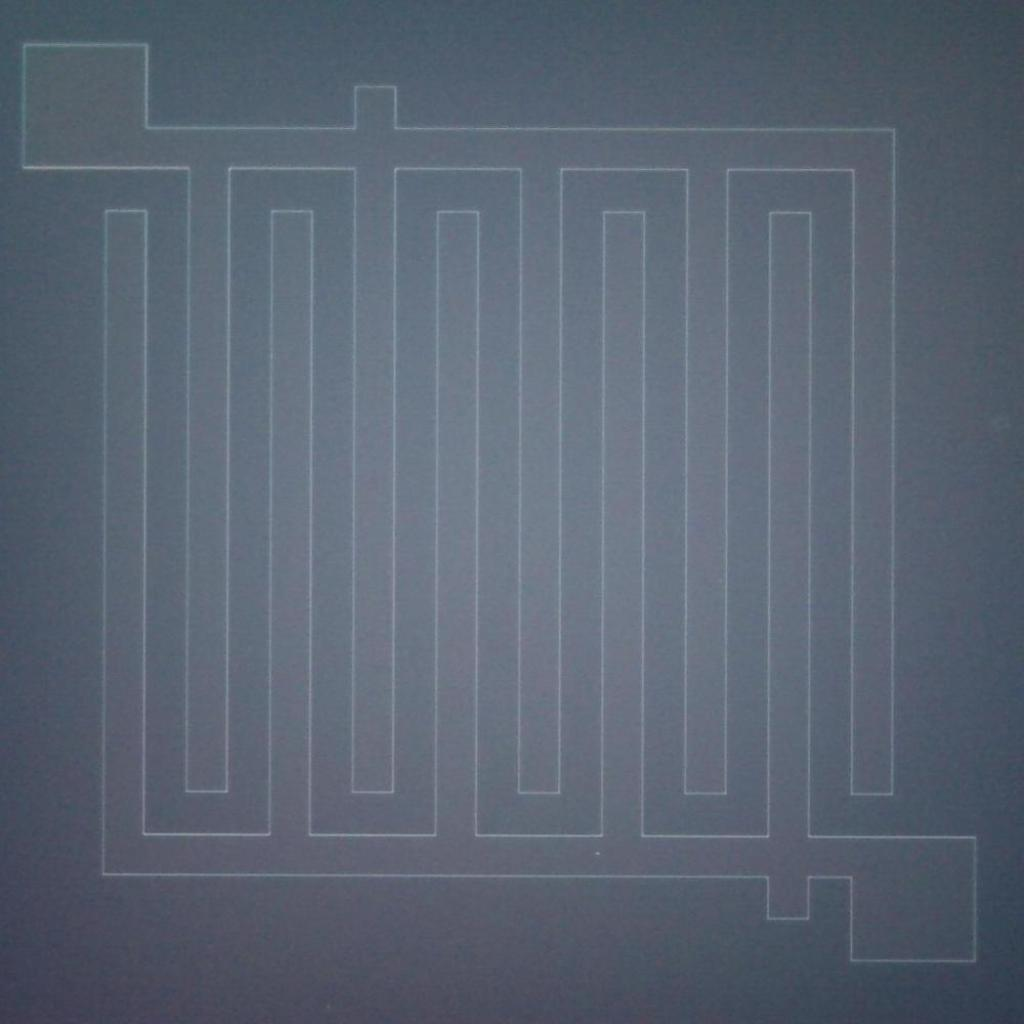budge circuit: (340, 73, 412, 143), (754, 862, 819, 933)
